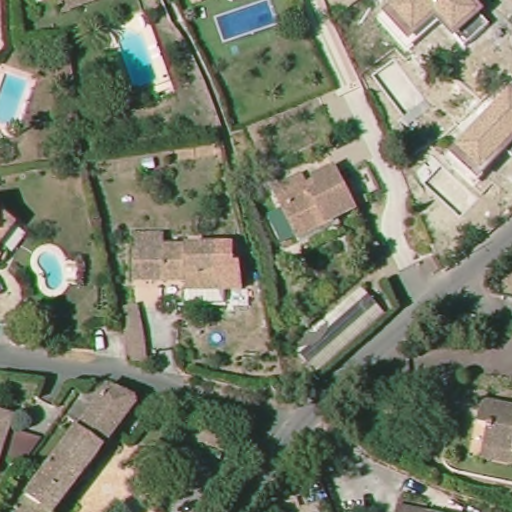pool: (114, 20, 170, 95), (208, 1, 281, 43), (29, 244, 73, 296), (1, 68, 29, 133), (208, 326, 225, 346)
